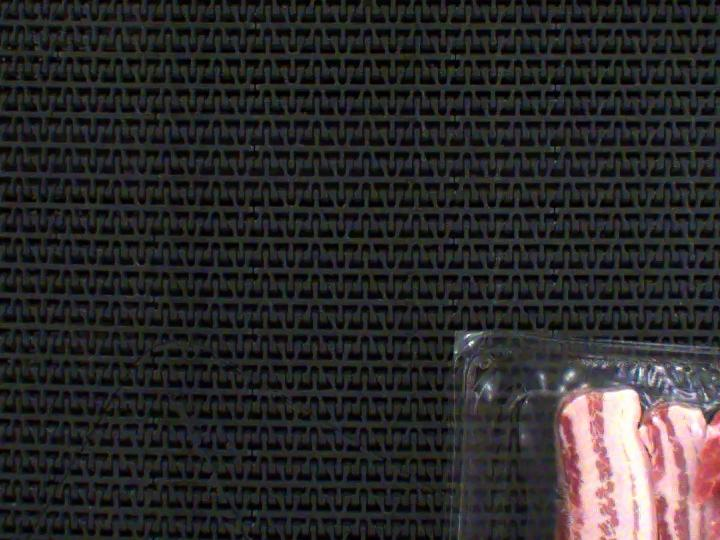unsealed: (520, 348, 720, 540)
